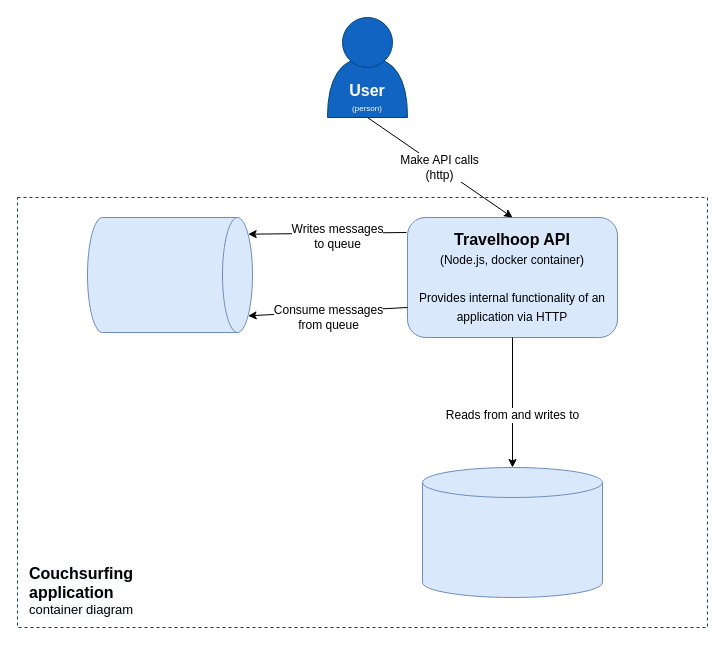
This 725x645 diagram has some shape labels left out. Here are the shapes that lost their labels. From the top down, the box of each, then its label:
(86, 216, 252, 332): Queue (Redis) Store messages (integration events) from each module
(422, 466, 602, 598): Database (Postgres) Stores infromation about users, couches, bookings etc
